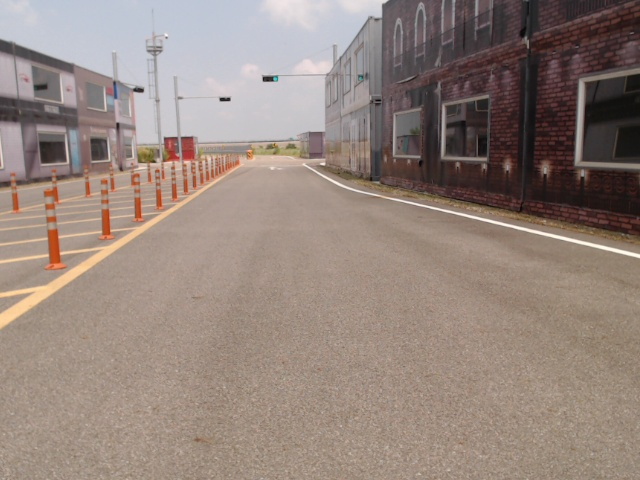green_3: (263, 75, 279, 82)
